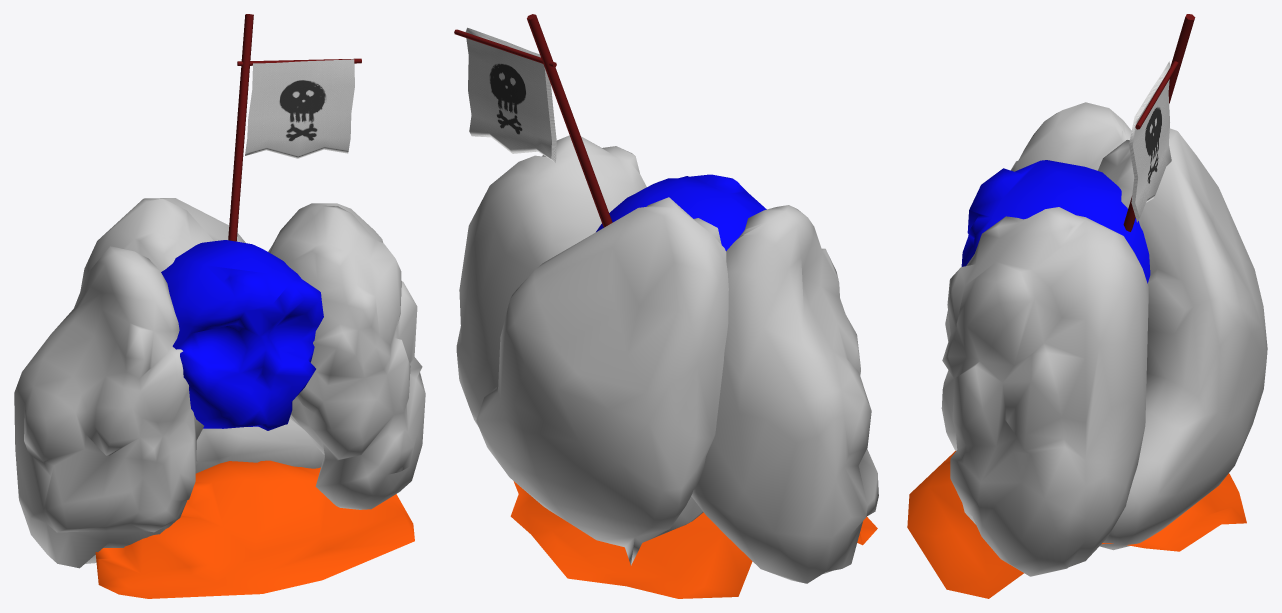
File: PirateCave.FBX
3 views of the same model, side by side, from view 1: azimuth 30°, elevation 25°; view 2: azimuth 150°, elevation 25°; view 3: azimuth 270°, elevation 25° (orthographic). The views are drawn at different scales.
Visible parts, largest first — view 1: PirateCave; view 2: PirateCave; view 3: PirateCave.
Boxes of the visible parts, x1,y1,x2,y2 form: PirateCave: (14, 14, 425, 598); PirateCave: (454, 14, 878, 598); PirateCave: (907, 14, 1267, 598).
Bounding box in the file's own units: 2.85 × 3.4 × 2.05.
